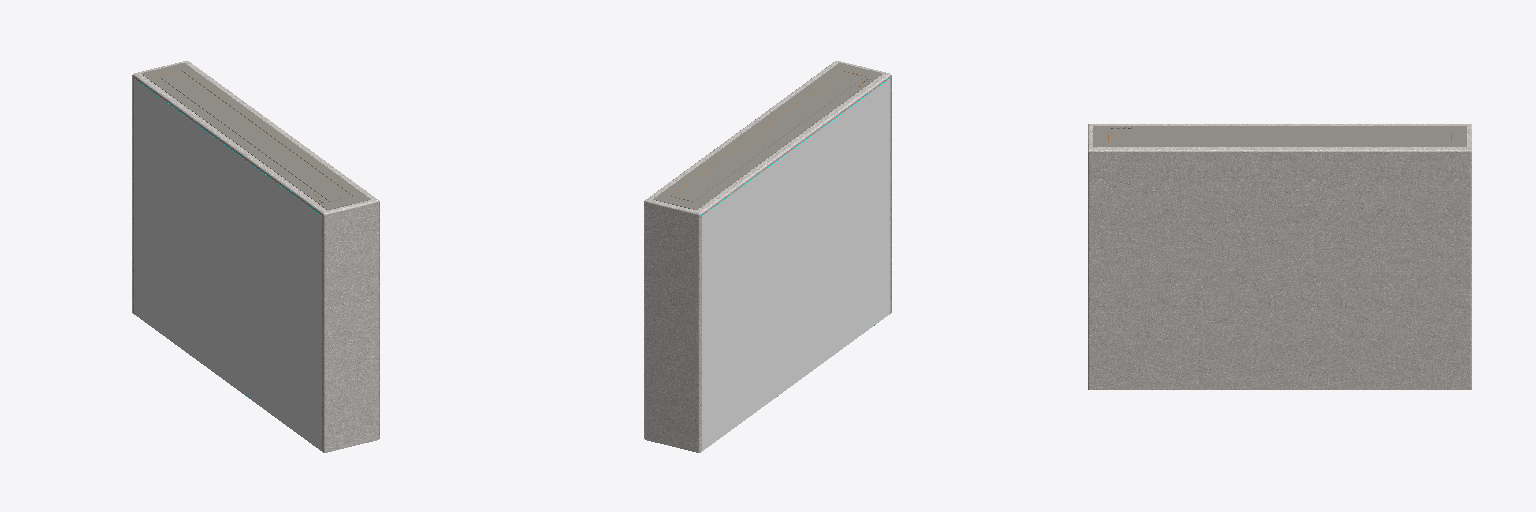
The picture shows the model from 3 angles: view 1: azimuth 30°, elevation 25°; view 2: azimuth 150°, elevation 25°; view 3: azimuth 270°, elevation 25°; orthographic projection.
Size of the model in its own units: 0.322 by 1.31 by 1.9.
19 materials, 1 textured.